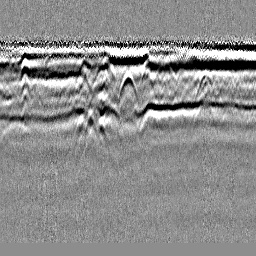cavity: (116, 68, 139, 105)
